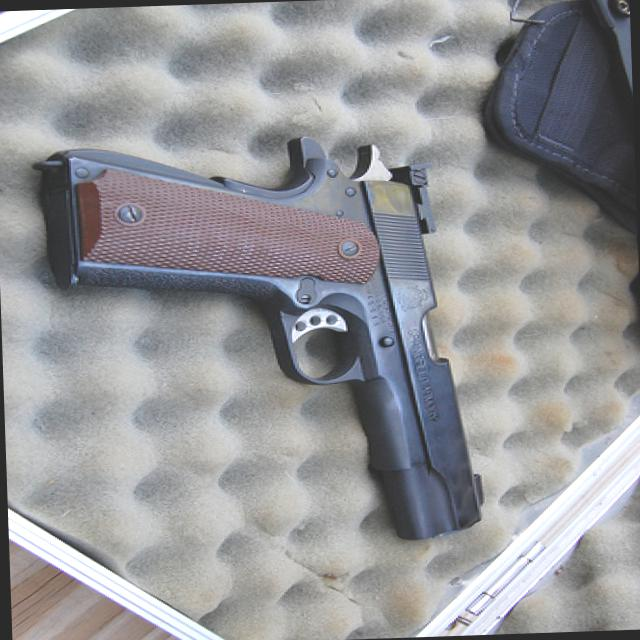handgun: (36, 123, 494, 550)
